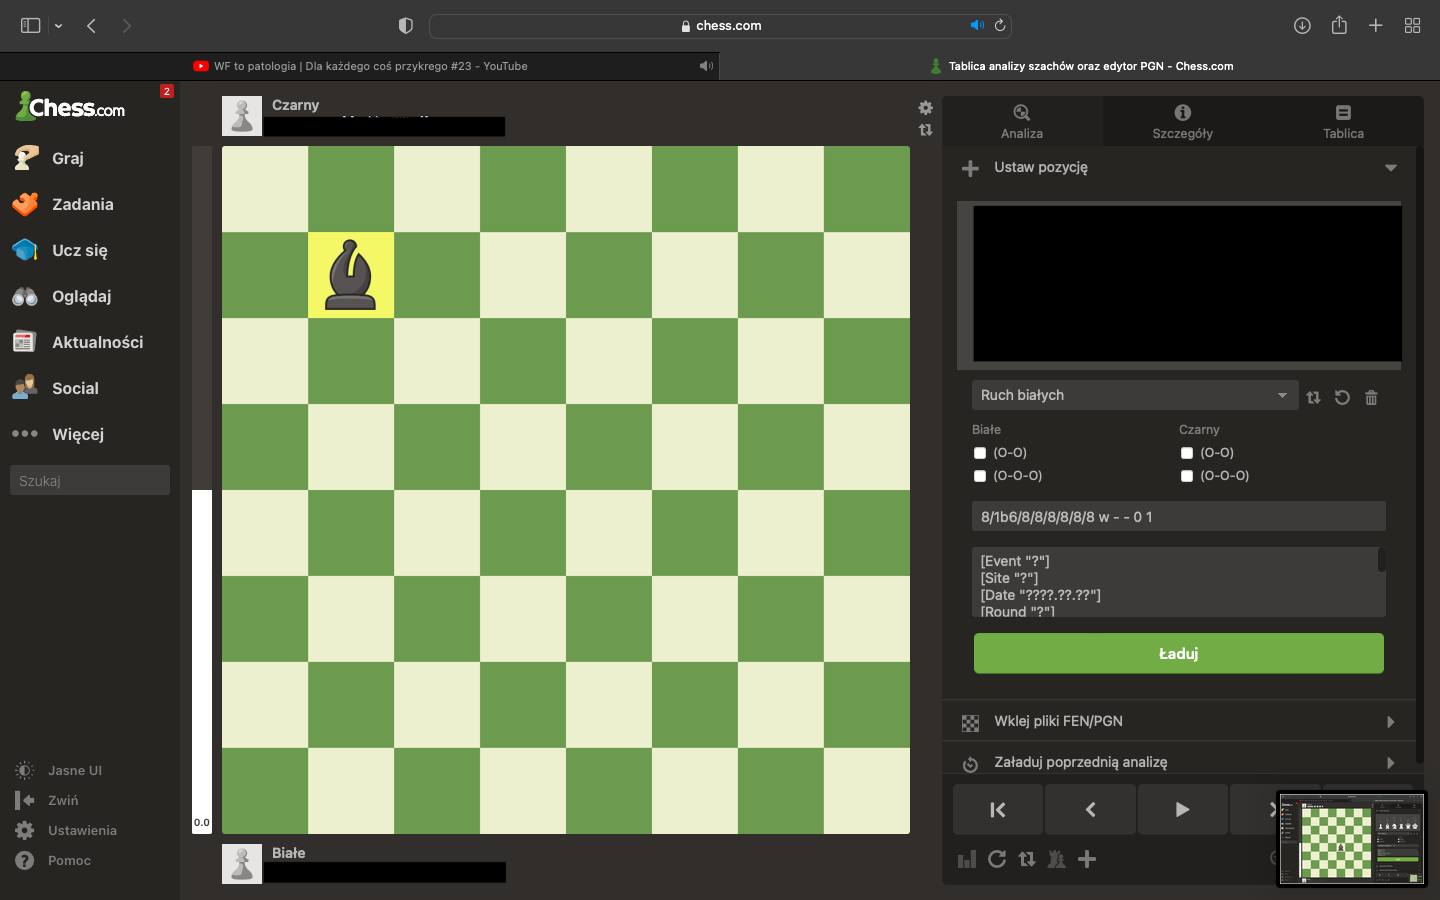black_bishop: (323, 237, 377, 313)
